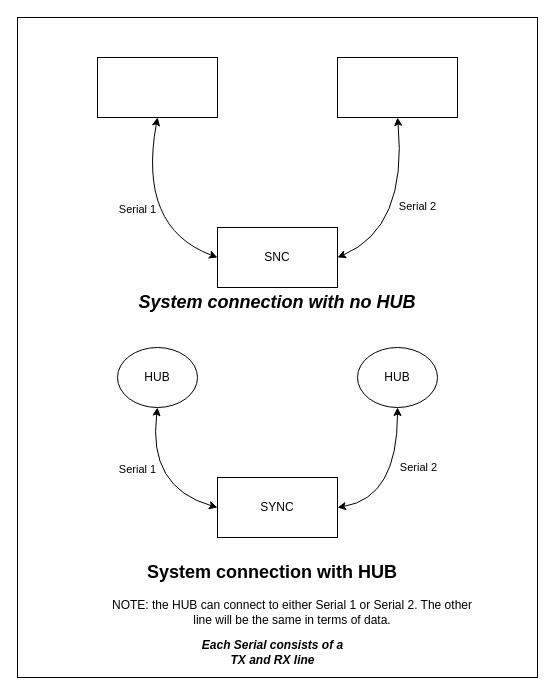
Image size: 555x695. Some labels were removed from this diagram. The box of each missing label's shape, as (x1, y1, x2, y2) in pixels:
MDPS: (96, 56, 218, 118)
SS: (336, 56, 458, 118)
